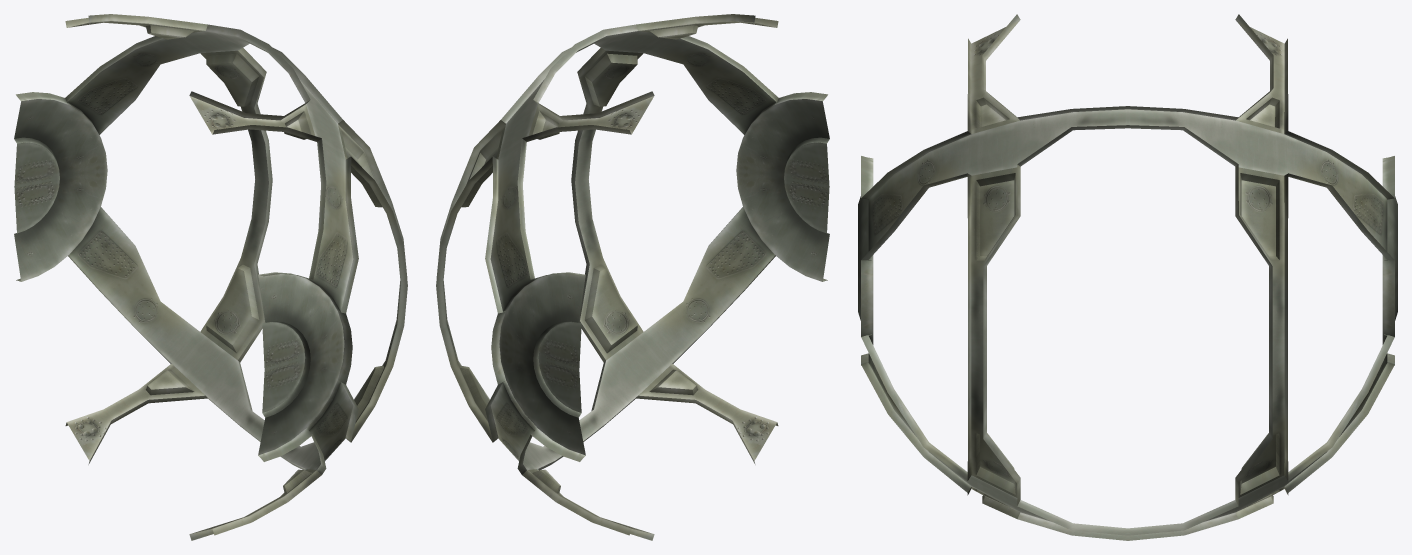
The model's file is BubbleTurret_Skeleton.FBX.
The picture shows the model from 3 angles, left to right: view 1: azimuth 30°, elevation 25°; view 2: azimuth 150°, elevation 25°; view 3: azimuth 270°, elevation 25°; orthographic projection. The views are drawn at different scales.
Visible parts, largest first — view 1: TurretBall_Metal; view 2: TurretBall_Metal; view 3: TurretBall_Metal.
Part boxes in pixels (box(x1,y1,x2,y2)): TurretBall_Metal: box(14, 14, 407, 540); TurretBall_Metal: box(436, 14, 829, 540); TurretBall_Metal: box(858, 14, 1397, 540).
Size of the model in its own units: 131 by 284 by 281.
Materials: 1 (1 with a texture image).
